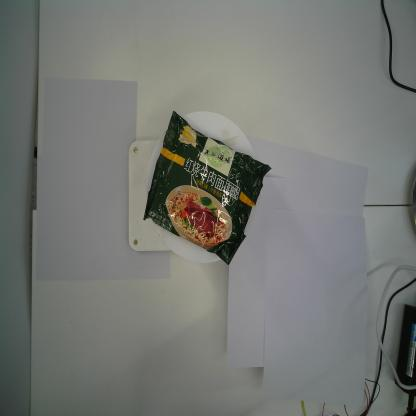Instant Noodles: (144, 110, 272, 266)
